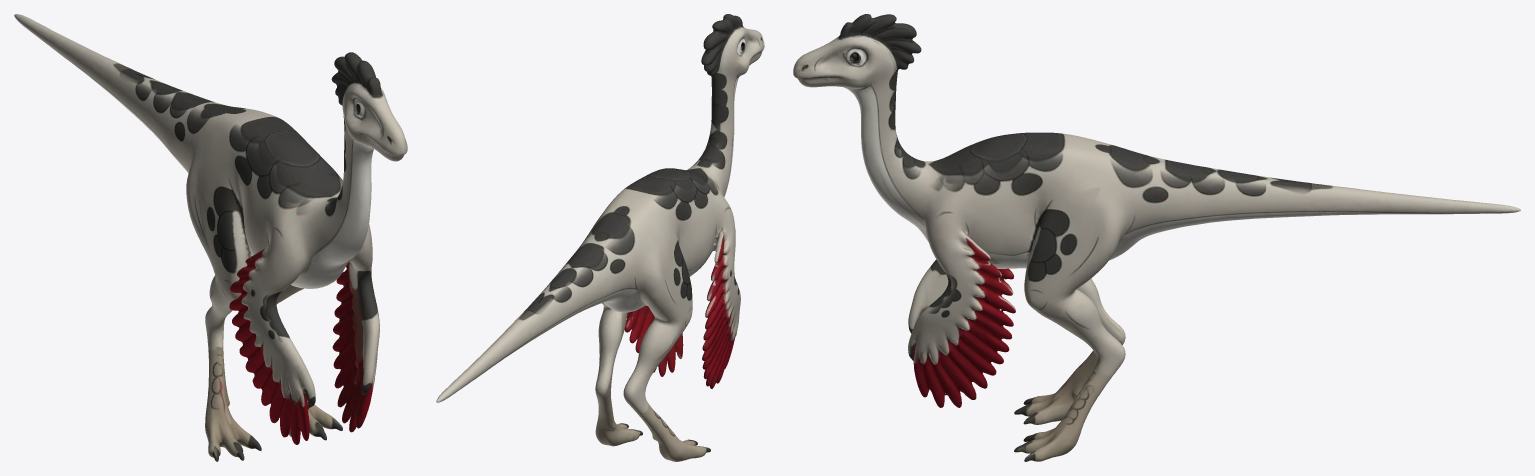
The model's file is O-dino.glb.
3 renders of one model, left to right at view 1: azimuth 30°, elevation 25°; view 2: azimuth 150°, elevation 25°; view 3: azimuth 270°, elevation 25°, orthographic. The views are drawn at different scales.
Bounding box in the file's own units: 0.3607 × 1.21 × 1.9.
1 material, 1 textured.
